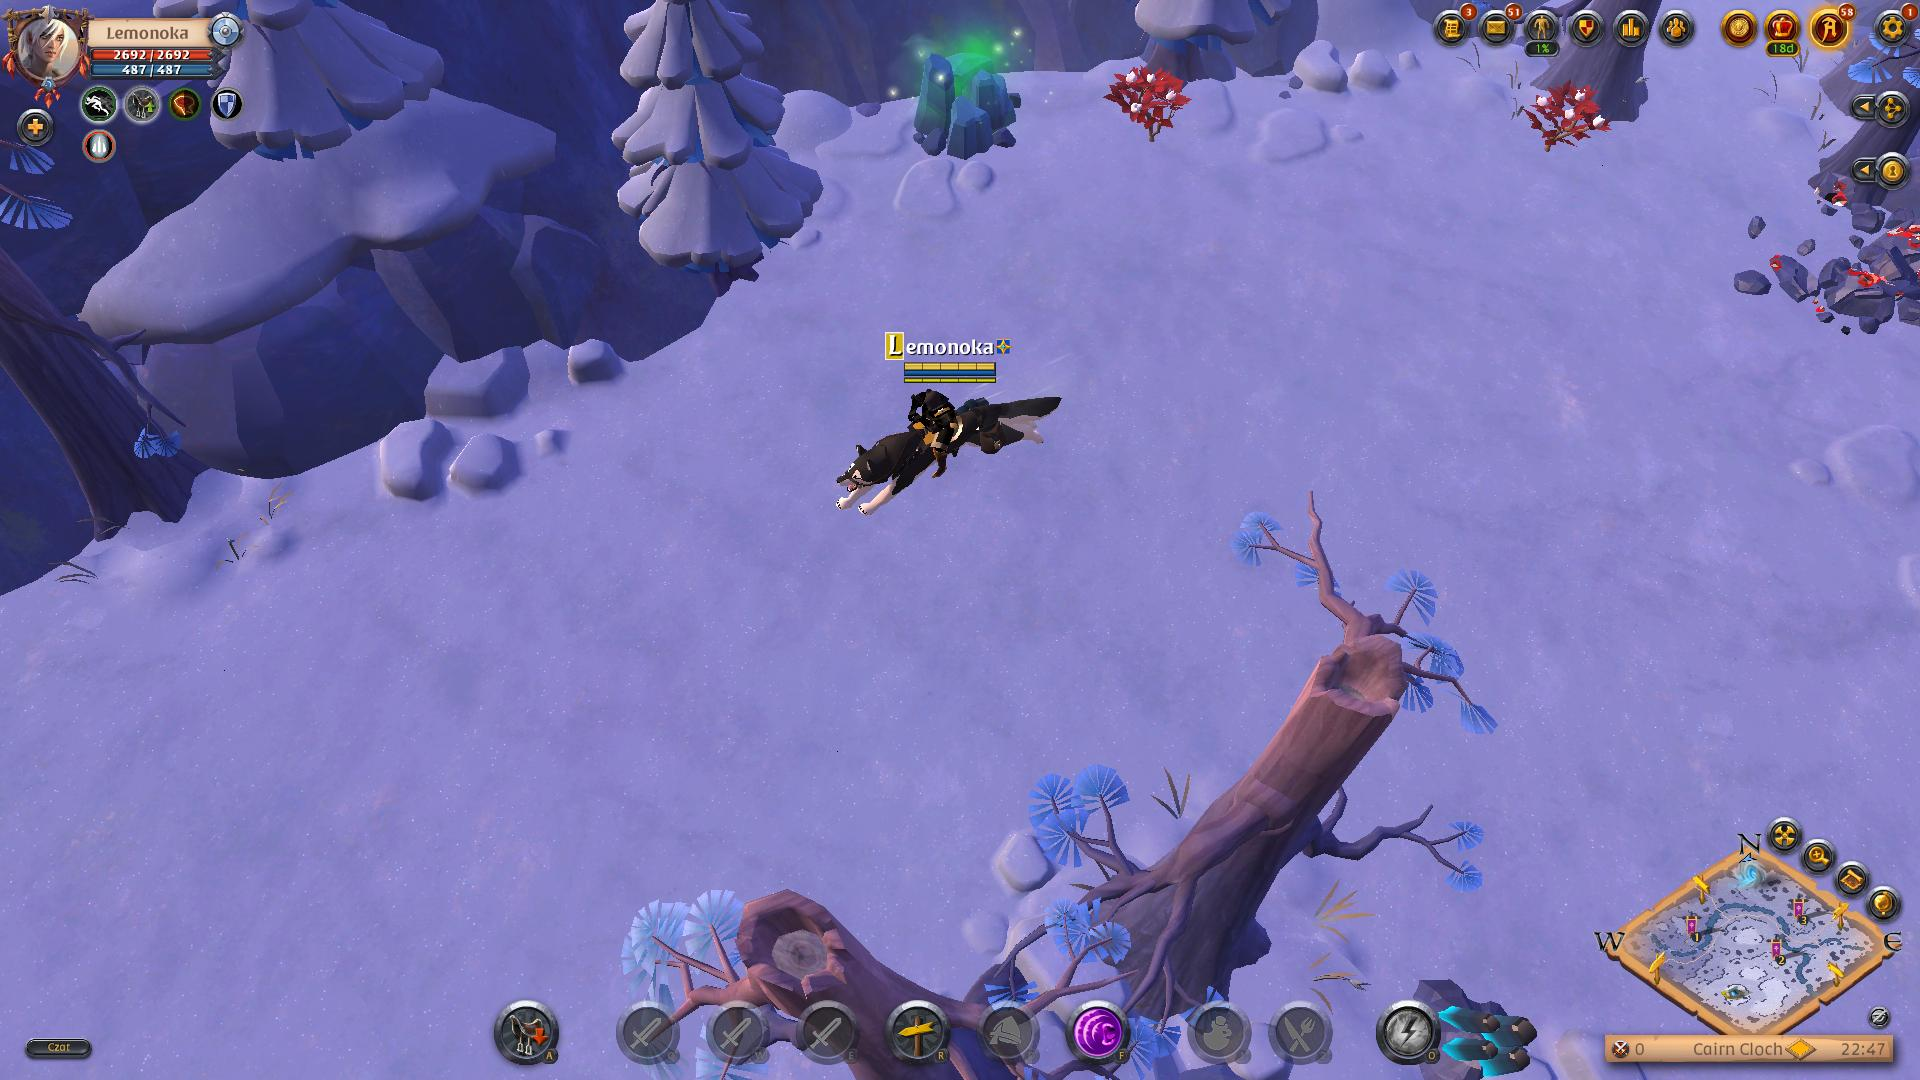fiber tier 4: (886, 12, 1033, 167)
fiber tier 5: (1520, 80, 1613, 169), (1110, 55, 1185, 149)
